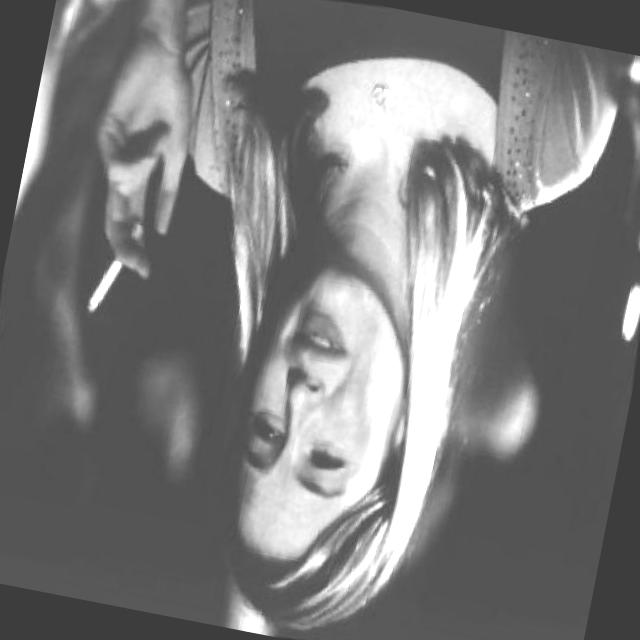smoke: (80, 248, 134, 320)
